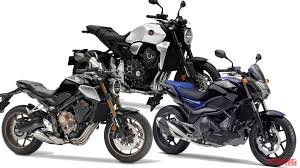motor: (148, 68, 300, 168), (1, 70, 147, 168), (69, 3, 215, 94)
